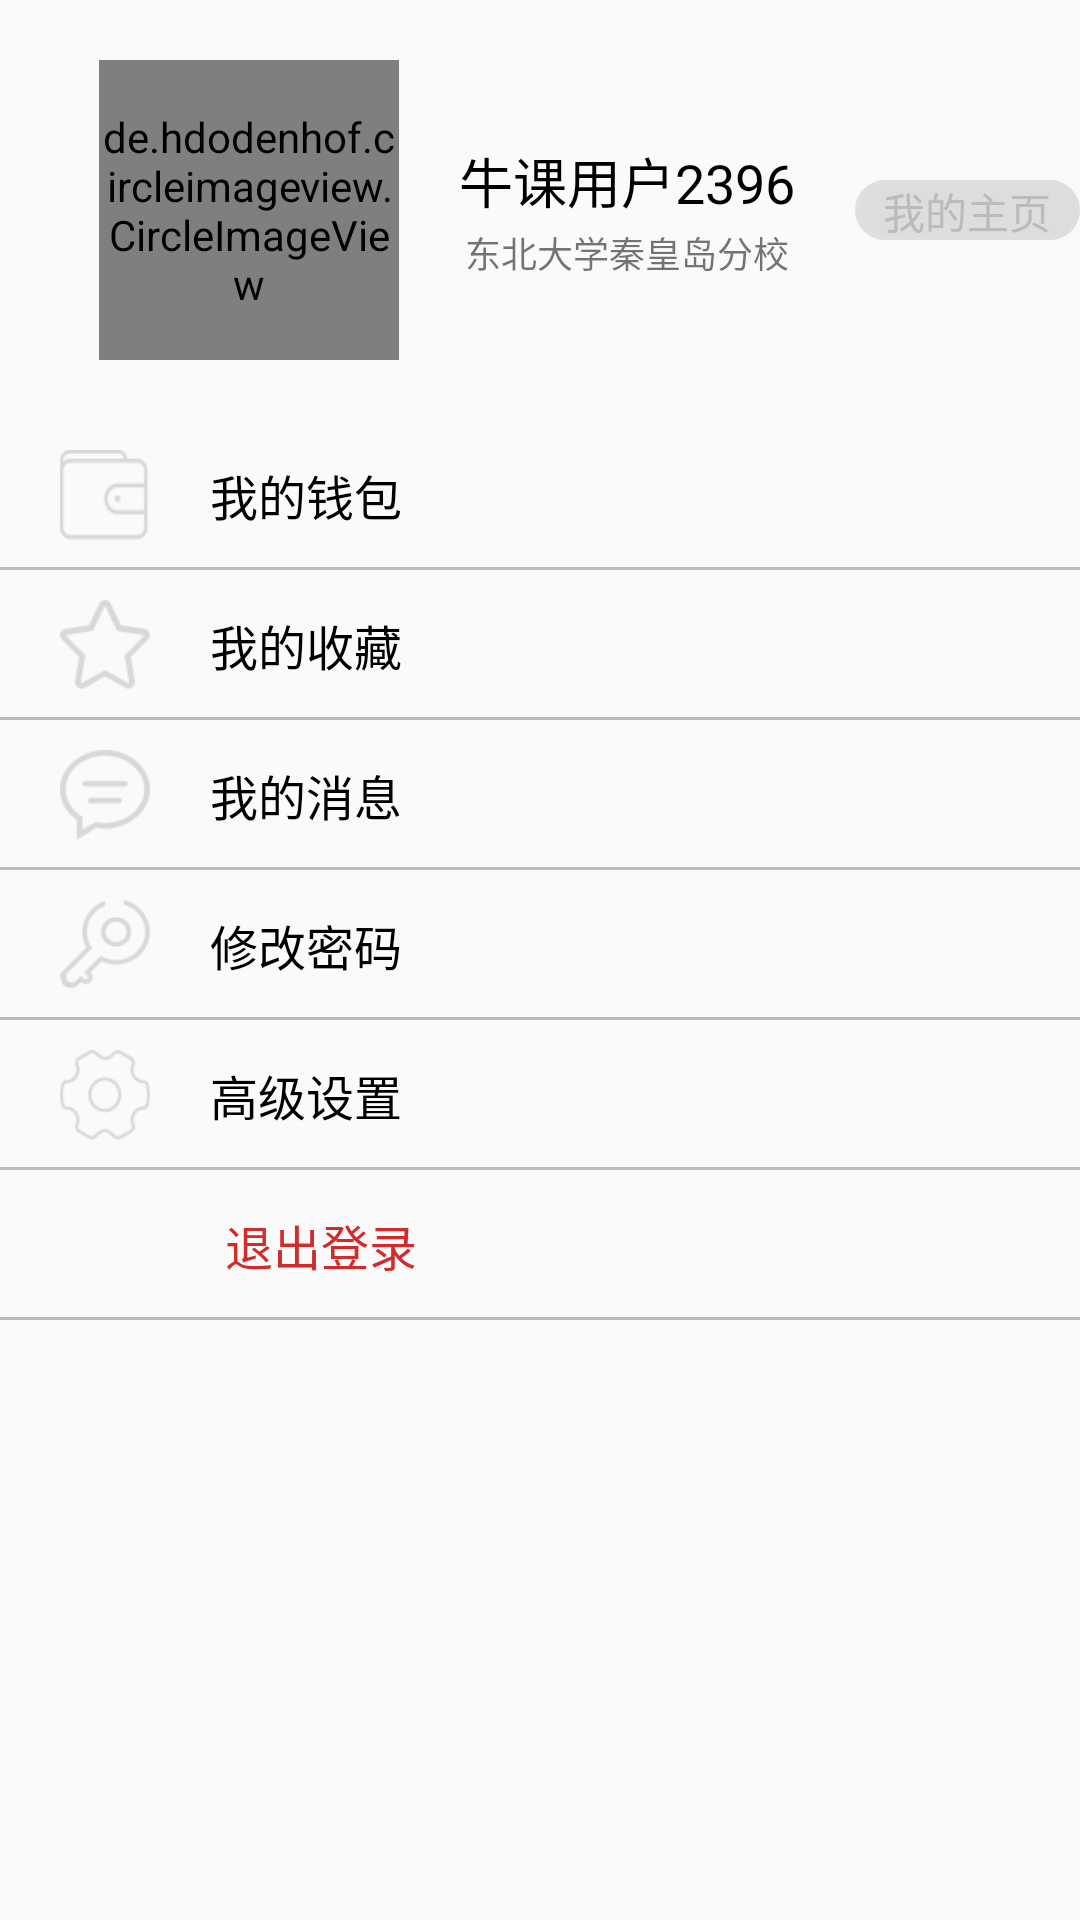

Icons on this 1080w x 1920h Android screen, each with its box as (x1, y1, x2, y2):
mine message: (60, 750, 150, 838)
mine pwd: (60, 901, 150, 987)
mine setting: (60, 1050, 150, 1139)
mine shoucang: (60, 600, 150, 688)
mine vallet: (60, 450, 147, 538)
